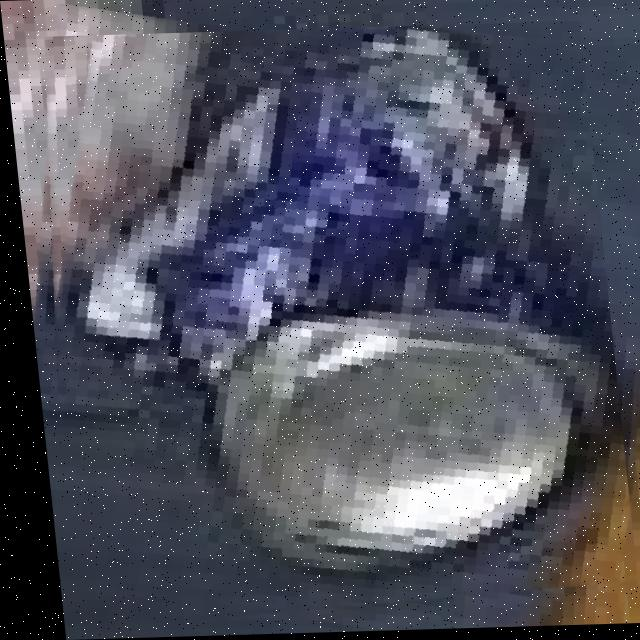litter: (44, 30, 617, 602)
